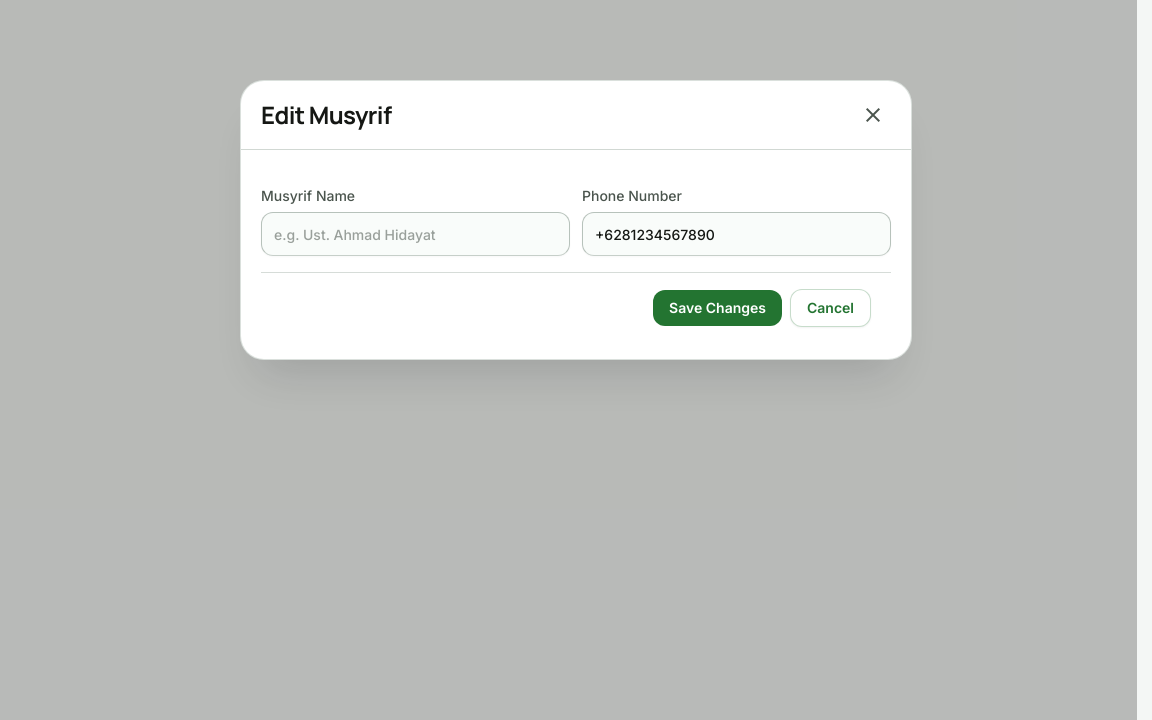
Scenario: MusyrifModal › validation › should show validation error when name is empty
This screenshot has width=1152, height=720.
Step 1. Click the button "Save Changes" → (718, 308), box [653,290,782,326]
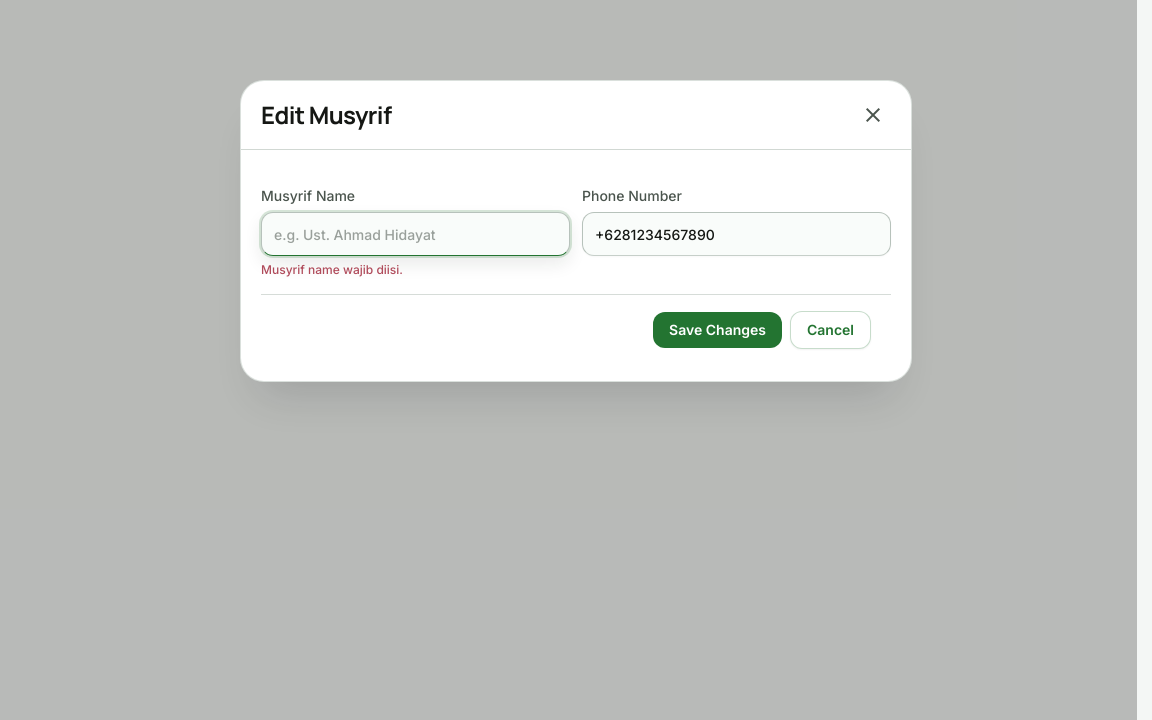
Now the text "Musyrif name wajib diisi." is shown, box [261,262,403,277]
